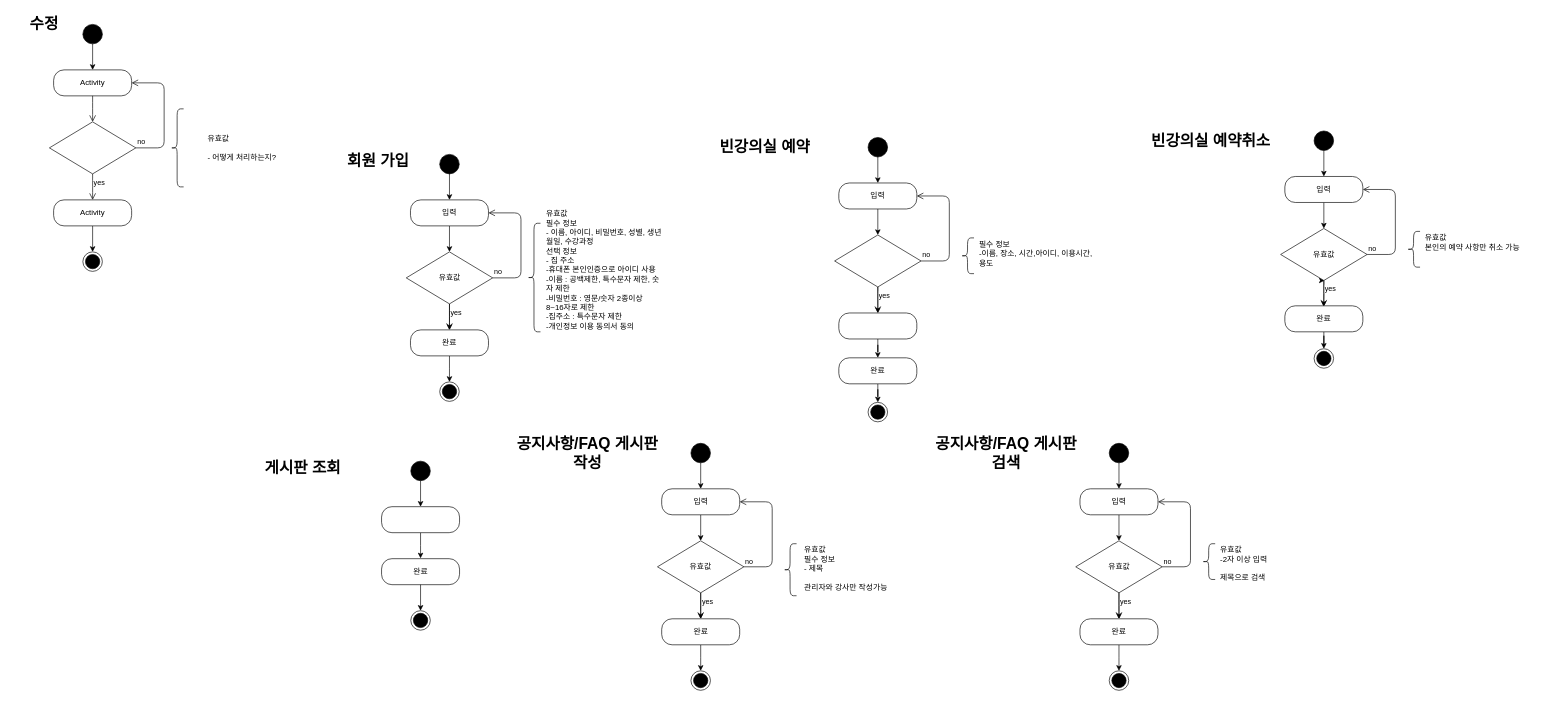
Image size: 1552x701. Some labels were removed from this diagram. The shapes that lost their labels are listed below. From the top down, each one's centre as x and y in pixels, then its label:
At point (92, 147): "Condition".
At point (877, 260): "필수 정보".
At point (877, 325): "문자 안내".
At point (420, 519): "조회".
